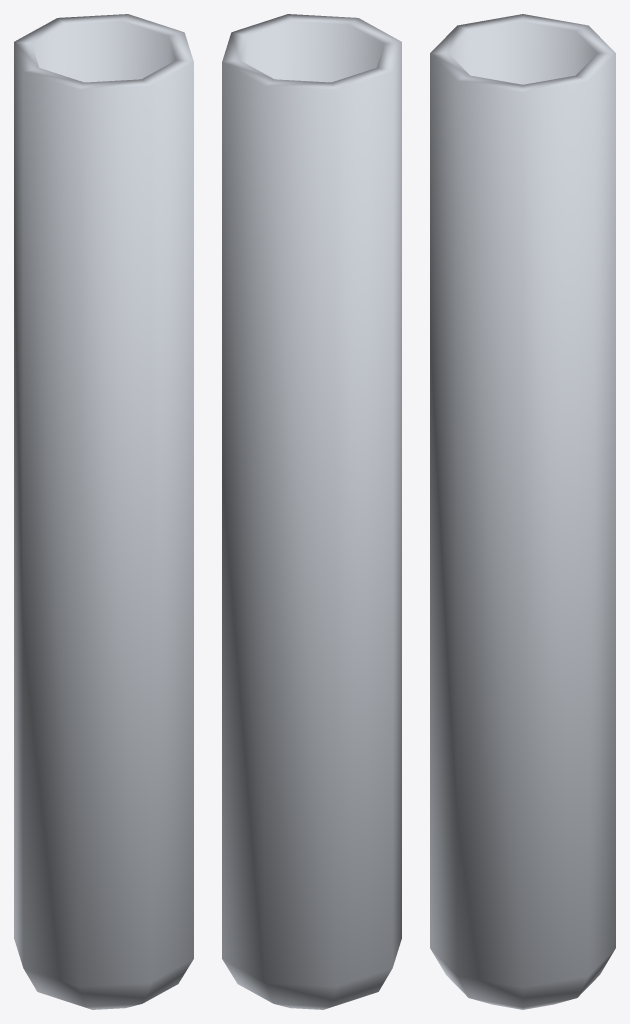
File: bottle_glassware_test_tube_large.glb
3 views of the same model, side by side, from view 1: azimuth 30°, elevation 25°; view 2: azimuth 150°, elevation 25°; view 3: azimuth 270°, elevation 25° (orthographic).
Visible parts, largest first — view 1: bottle_glassware_test_tube_large; view 2: bottle_glassware_test_tube_large; view 3: bottle_glassware_test_tube_large.
Part boxes in pixels (box(x1,y1,x2,y2)): bottle_glassware_test_tube_large: box(14, 14, 193, 1009); bottle_glassware_test_tube_large: box(222, 14, 401, 1009); bottle_glassware_test_tube_large: box(430, 14, 615, 1009).
Size of the model in its own units: 4.04 by 22.48 by 4.04.
Materials: 1 (1 with a texture image).
